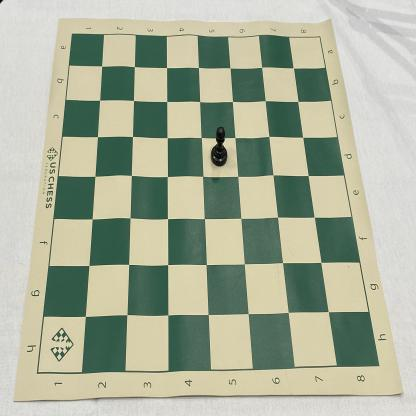black-pawn: (210, 126, 228, 167)
